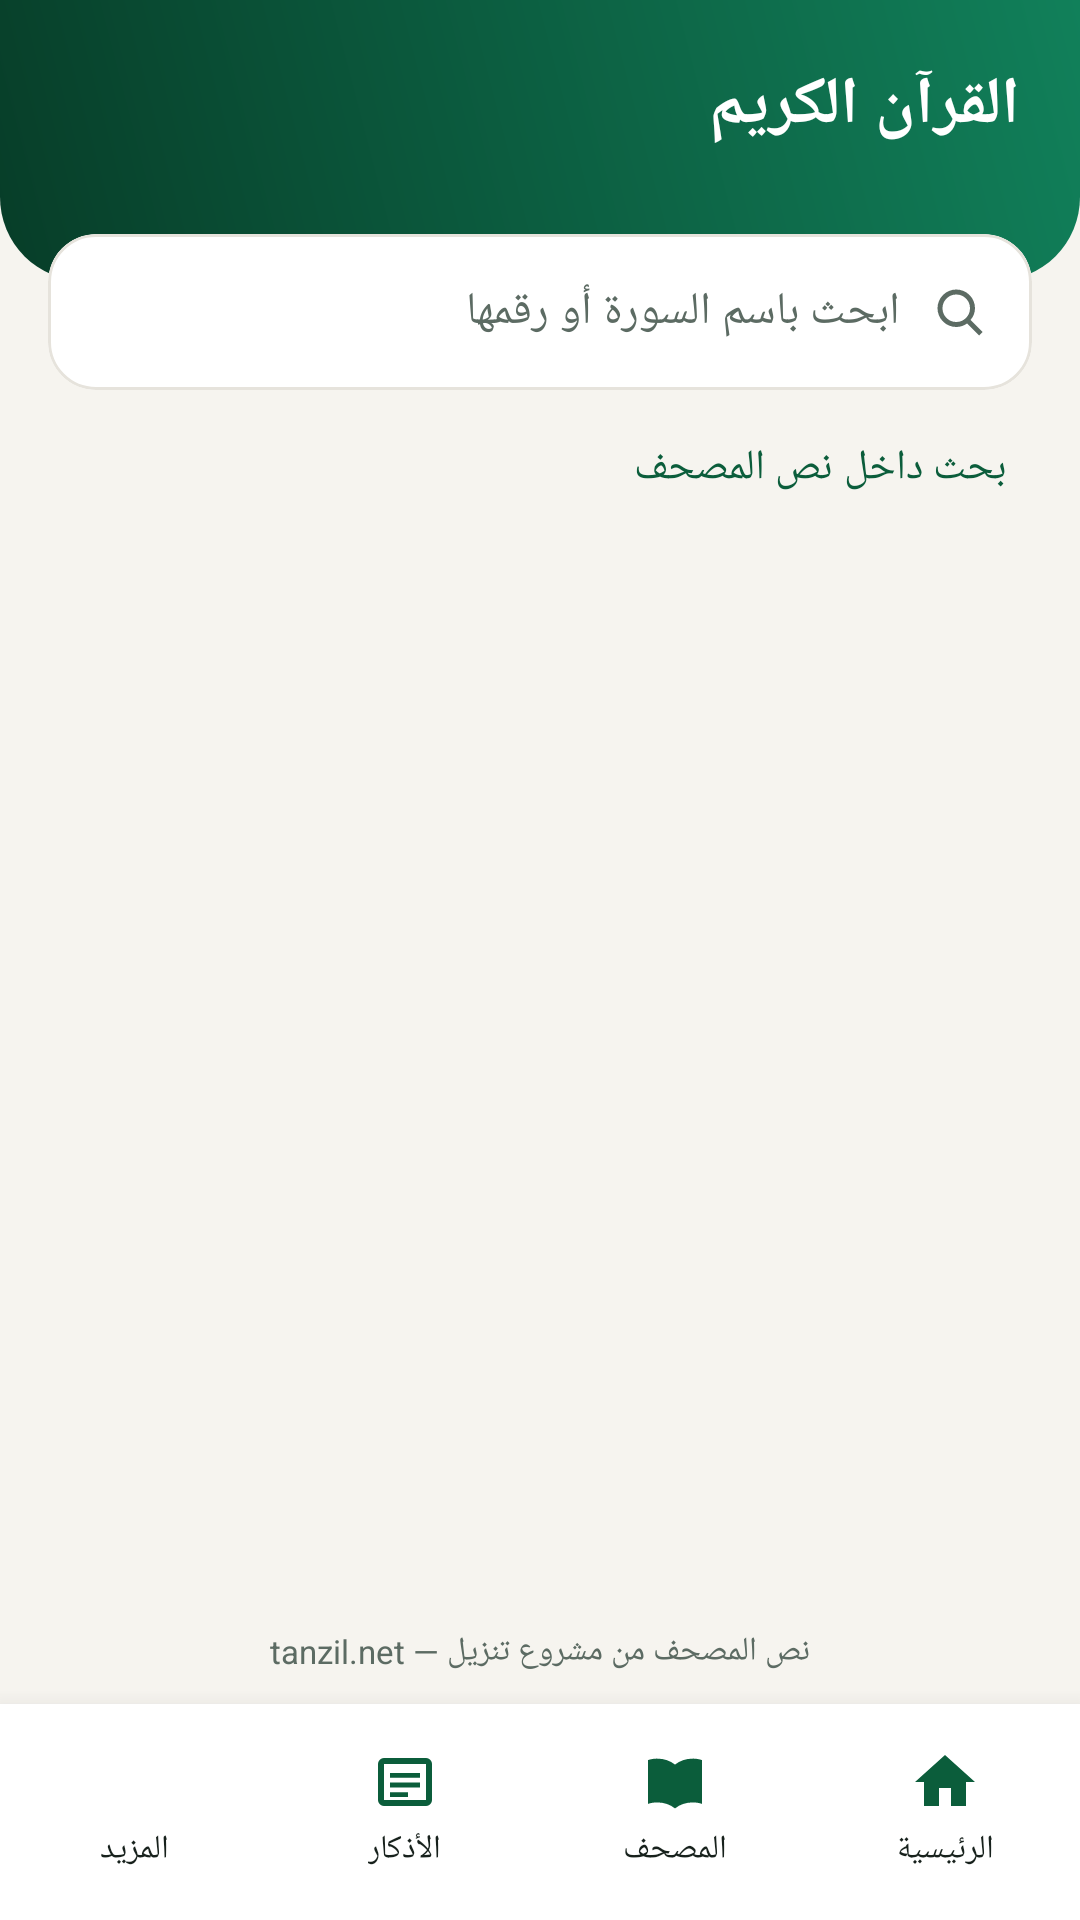

Screen size 1080 × 1920. Icon name, then its center in pixels as (x=x, y=y):
search: (x=960, y=312)
